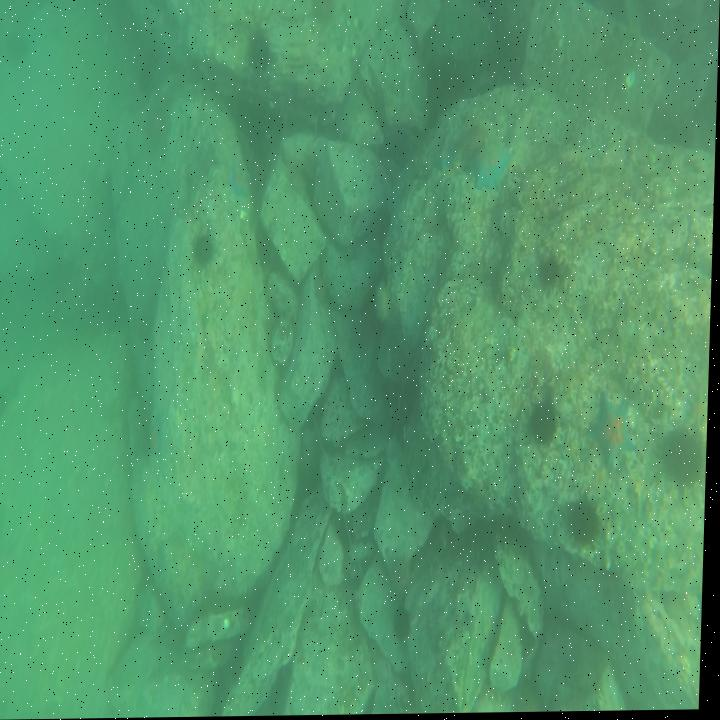echinus: (666, 422, 704, 497), (566, 490, 606, 549), (244, 29, 274, 77), (534, 395, 558, 453), (391, 553, 420, 596), (464, 118, 495, 153), (374, 286, 400, 320), (396, 602, 415, 641), (193, 237, 219, 265), (542, 260, 567, 289)
starfish: (591, 398, 639, 471), (475, 145, 514, 194), (146, 414, 167, 463), (225, 165, 252, 198)
